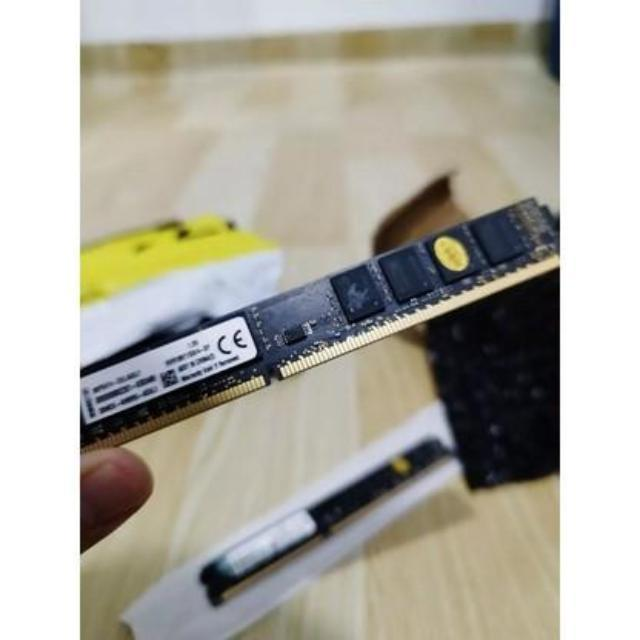RAM: (81, 168, 559, 466)
